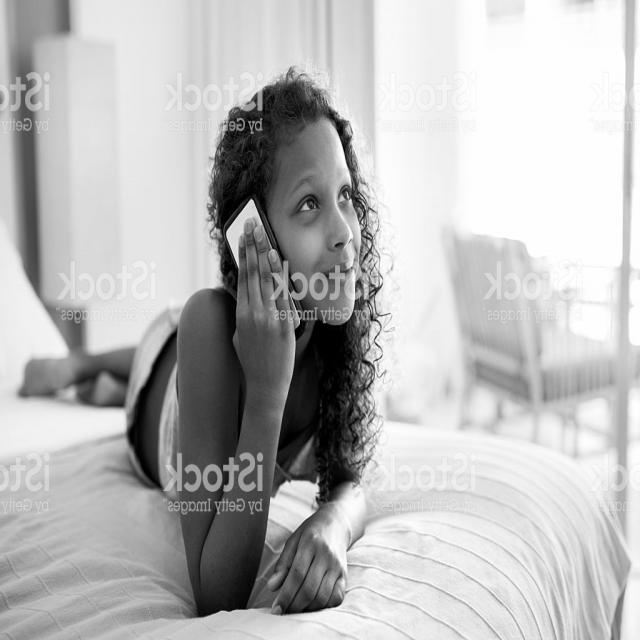phone: (215, 160, 321, 396)
